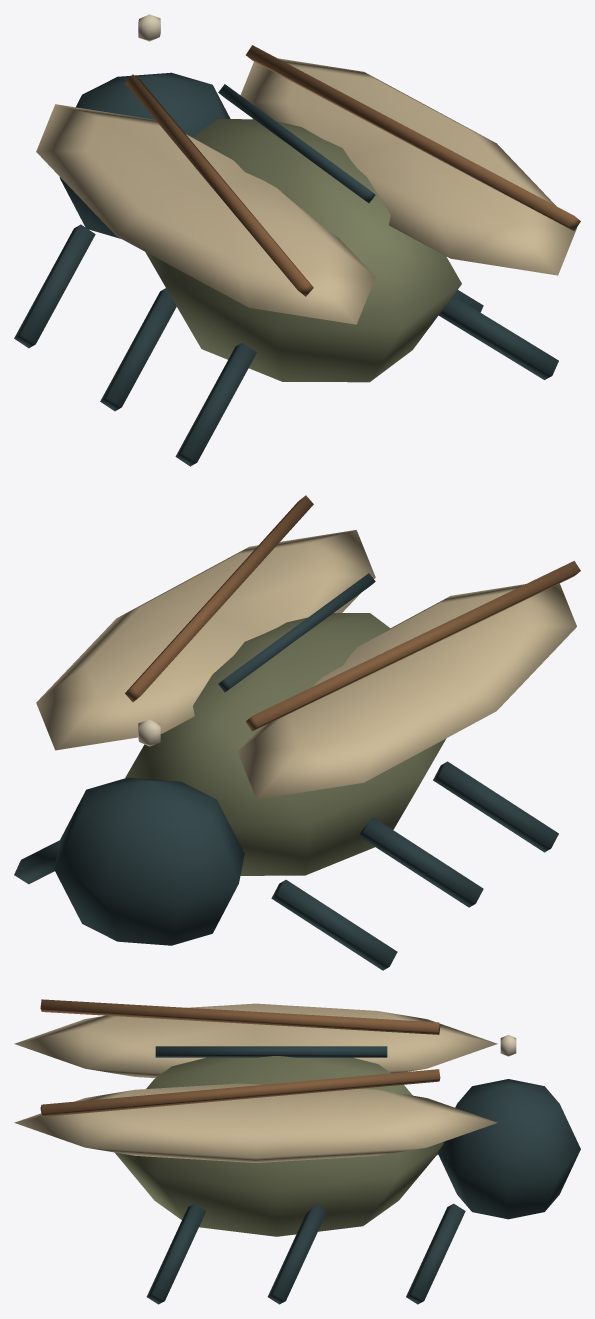
Rendered from insect_cicada_low.glb.
The picture shows the model from 3 angles, top to bottom: view 1: azimuth 30°, elevation 25°; view 2: azimuth 150°, elevation 25°; view 3: azimuth 270°, elevation 25°; orthographic projection. The views are drawn at different scales.
Size of the model in its own units: 0.102 by 0.064 by 0.164.
